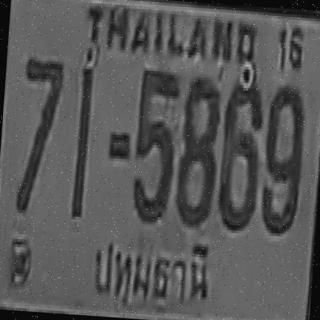N01: (71, 63, 94, 217)
N05: (130, 66, 180, 222)
N06: (216, 78, 264, 229)
N07: (14, 55, 64, 214)
N08: (173, 73, 222, 226)
N09: (260, 82, 306, 235)
P38: (82, 228, 216, 310)
